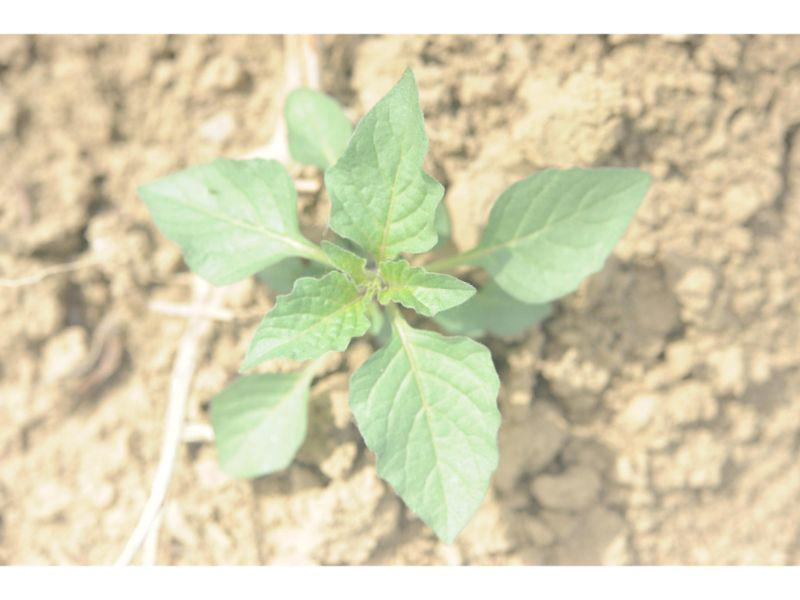nightshade: (137, 64, 652, 541)
